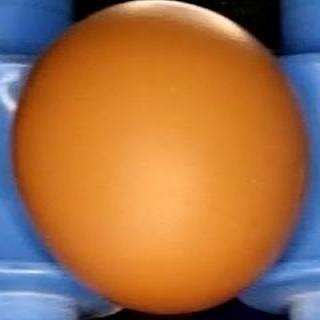Telur: (7, 2, 315, 308)
